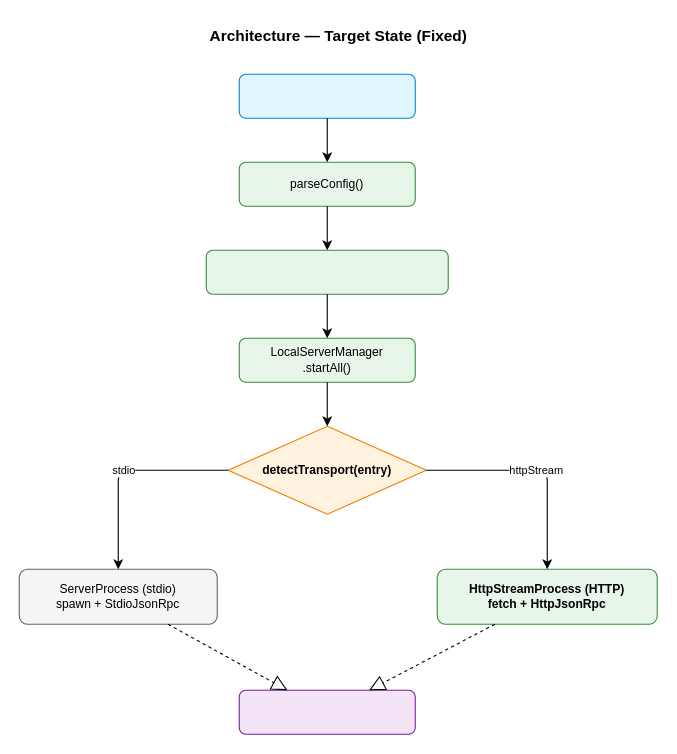
Some shapes in this 677 by 754 pixel diagram are drawn without their labels. Here are the shapes that lost their labels. From the top down, the centre of each, then its label:
the point at 326,95: orchestration.json
the point at 326,271: ServerEntry { command?, url?, transportType }
the point at 326,711: «interface» IServerProcess
